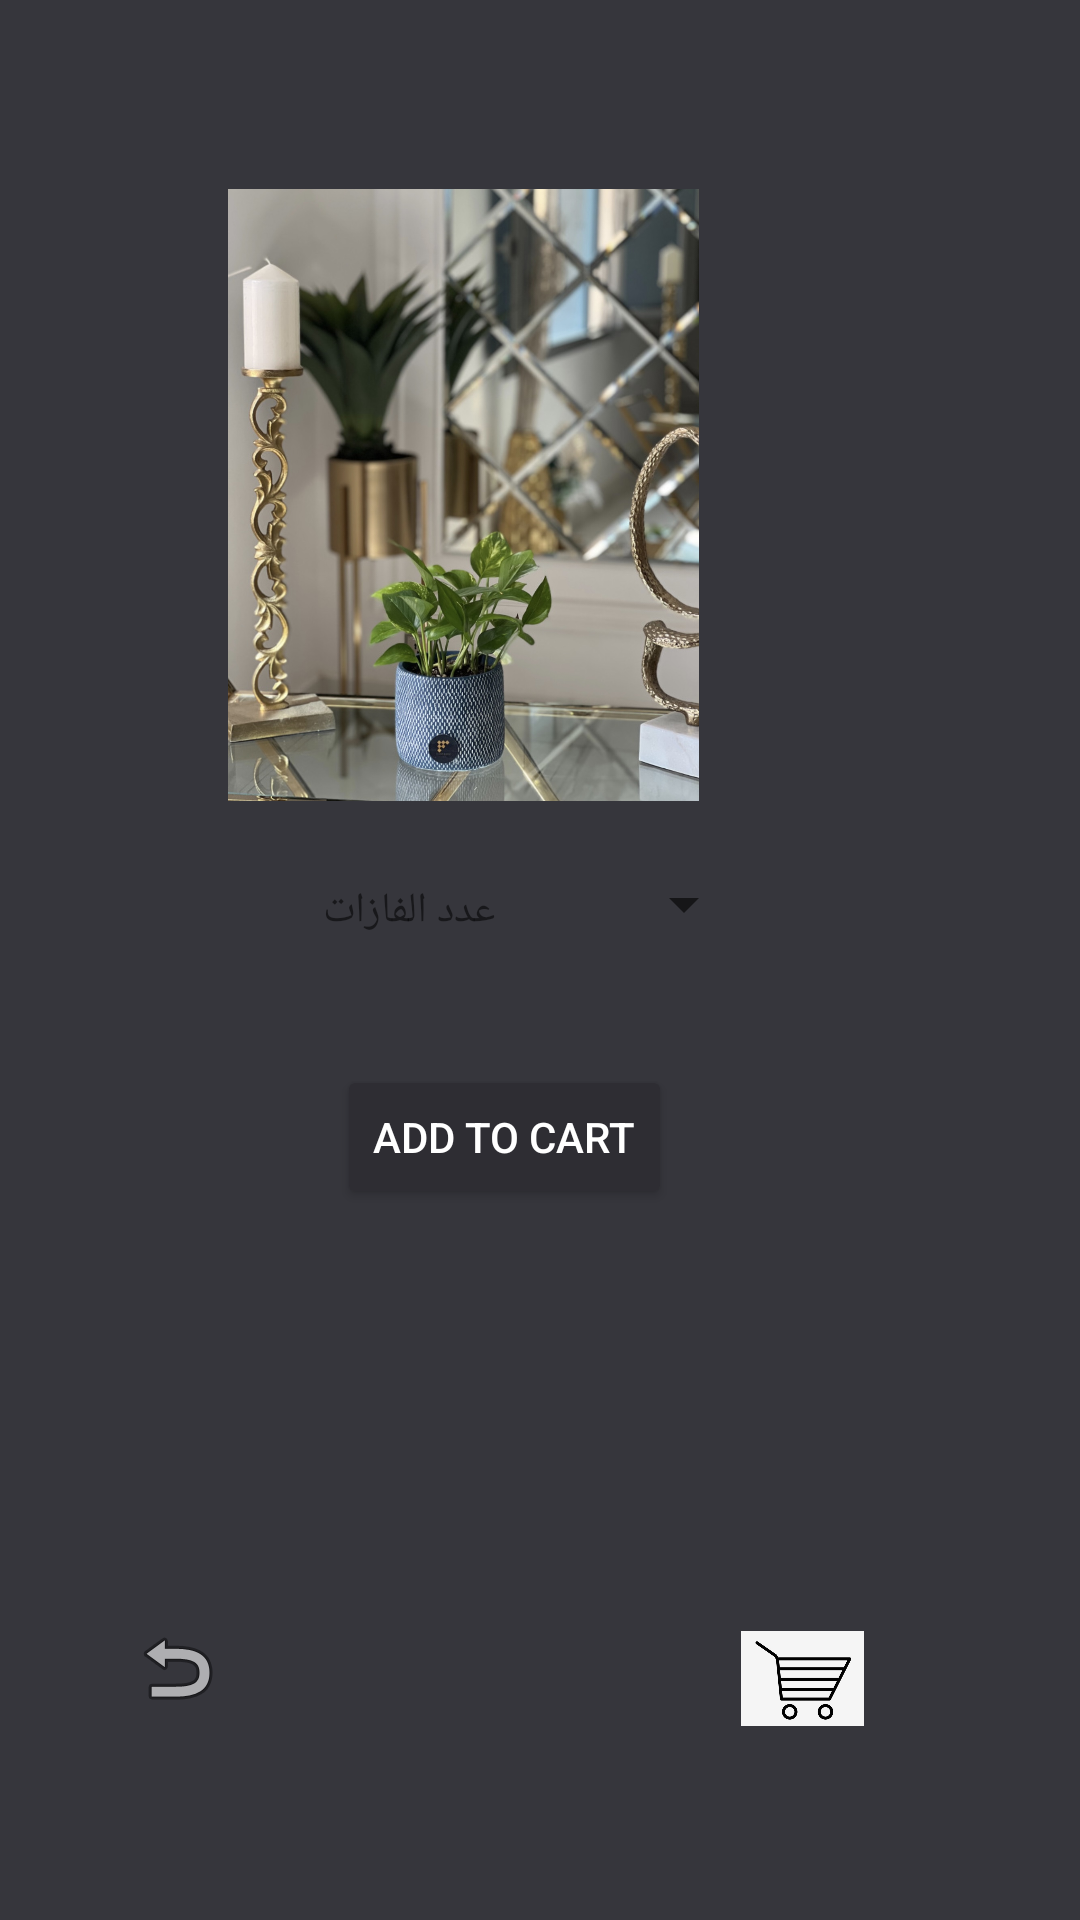

Named icons in this screenshot (1080x1920) and their bounding boxes, box(x1, y1, x2, y2):
revert: box(145, 1639, 211, 1698)
